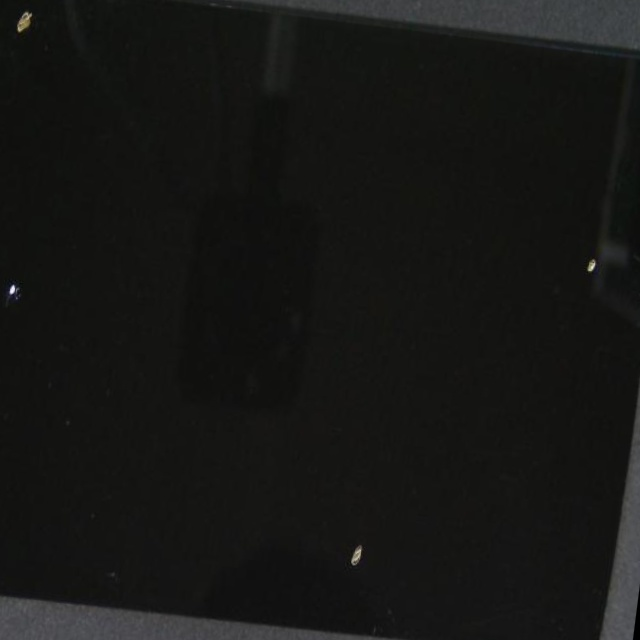stain: (107, 169, 630, 640), (211, 87, 640, 464), (0, 51, 87, 471)
